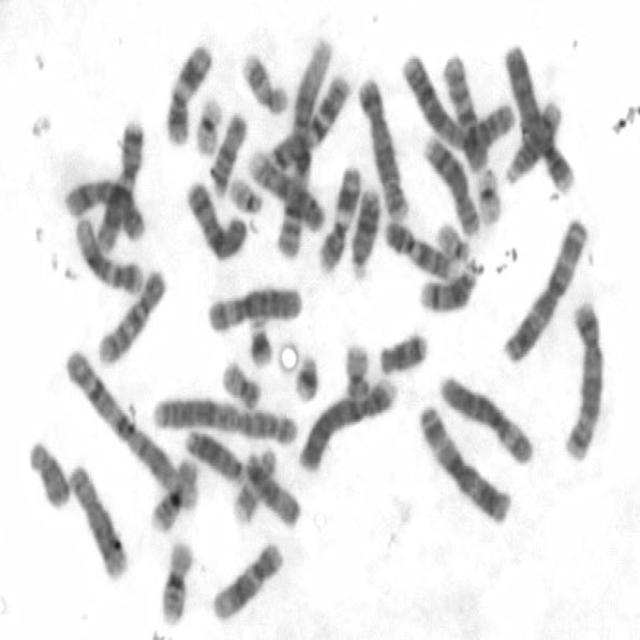A1: (61, 345, 190, 496), (274, 32, 336, 258)
A2: (396, 48, 516, 160), (147, 392, 299, 446)
A3: (498, 213, 590, 365), (415, 399, 512, 526)
B4: (502, 40, 576, 196), (294, 372, 399, 474)
B5: (354, 70, 409, 222), (558, 295, 604, 462)
C10: (92, 263, 170, 368), (442, 51, 491, 174)
C11: (314, 160, 362, 277), (162, 38, 212, 148)
C12: (208, 537, 284, 622), (70, 212, 144, 296)
C6: (435, 368, 535, 468), (204, 280, 303, 336)
C7: (262, 70, 351, 172), (92, 114, 146, 251)
C8: (64, 460, 129, 582), (418, 130, 480, 238)
C9: (244, 144, 326, 233), (380, 215, 454, 281)
D13: (180, 428, 246, 483), (346, 184, 382, 280)
D14: (500, 96, 562, 188), (415, 254, 481, 315)
D15: (242, 449, 304, 531), (206, 108, 249, 198)
E16: (145, 452, 200, 536), (156, 537, 196, 626)
E17: (229, 444, 279, 526), (239, 47, 290, 116)
E18: (24, 436, 70, 510), (375, 327, 429, 377)
F19: (191, 94, 224, 157), (473, 162, 503, 227)
F20: (220, 357, 262, 410), (342, 337, 373, 404)
G21: (290, 346, 322, 404), (243, 316, 274, 369)
G22: (225, 174, 265, 215), (433, 219, 471, 262)
X: (59, 173, 147, 242), (182, 176, 248, 262)
